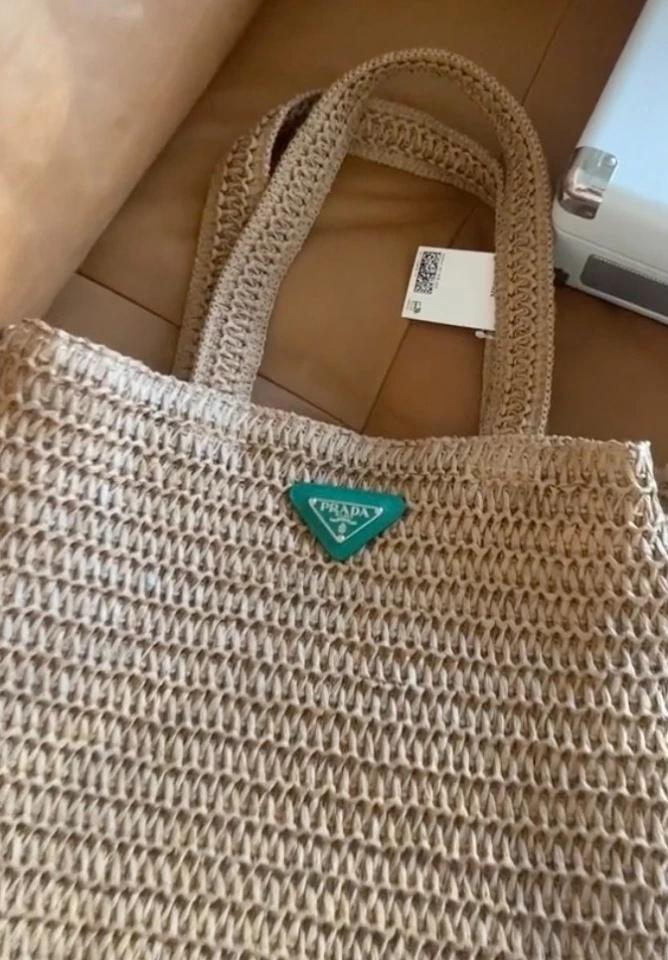PRADA: (309, 497, 383, 543)
